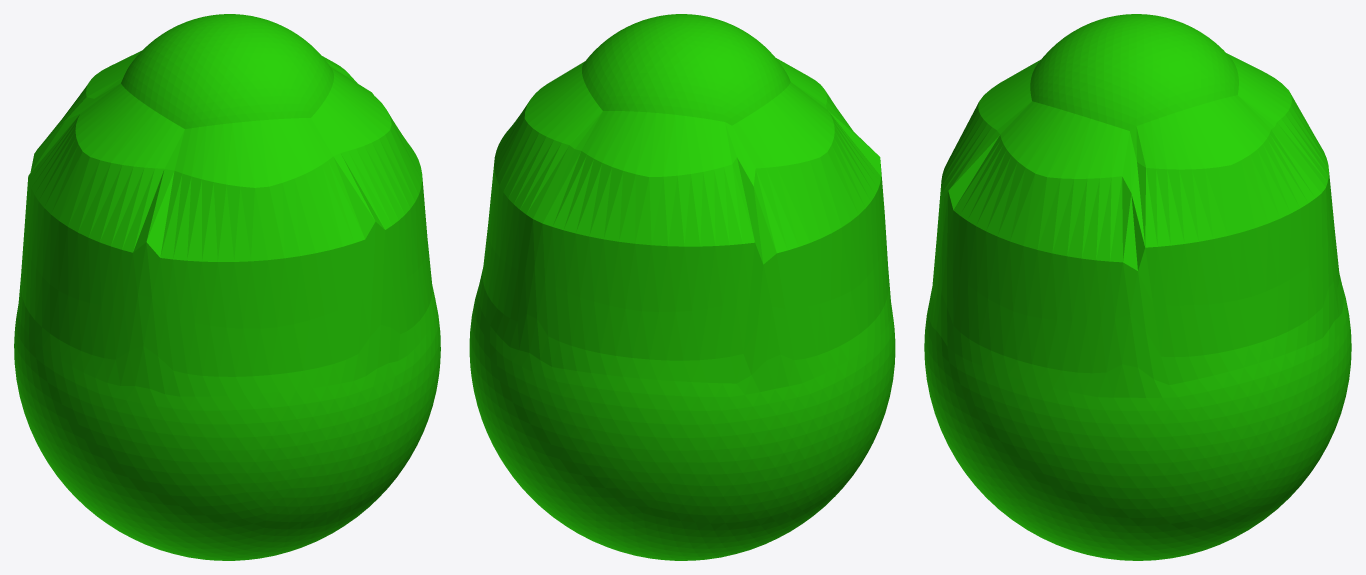
Rendered from Salade.dae.
3 renders of one model, left to right at view 1: azimuth 30°, elevation 25°; view 2: azimuth 150°, elevation 25°; view 3: azimuth 270°, elevation 25°, orthographic.
Parts seen in each view (by area): view 1: Icosphere.006; view 2: Icosphere.006; view 3: Icosphere.006.
Boxes of the visible parts, <box> form: Icosphere.006: <box>14,14,440,560</box>; Icosphere.006: <box>469,14,895,560</box>; Icosphere.006: <box>924,14,1351,560</box>.
Size of the model in its own units: 6.81 by 9.08 by 6.81.
